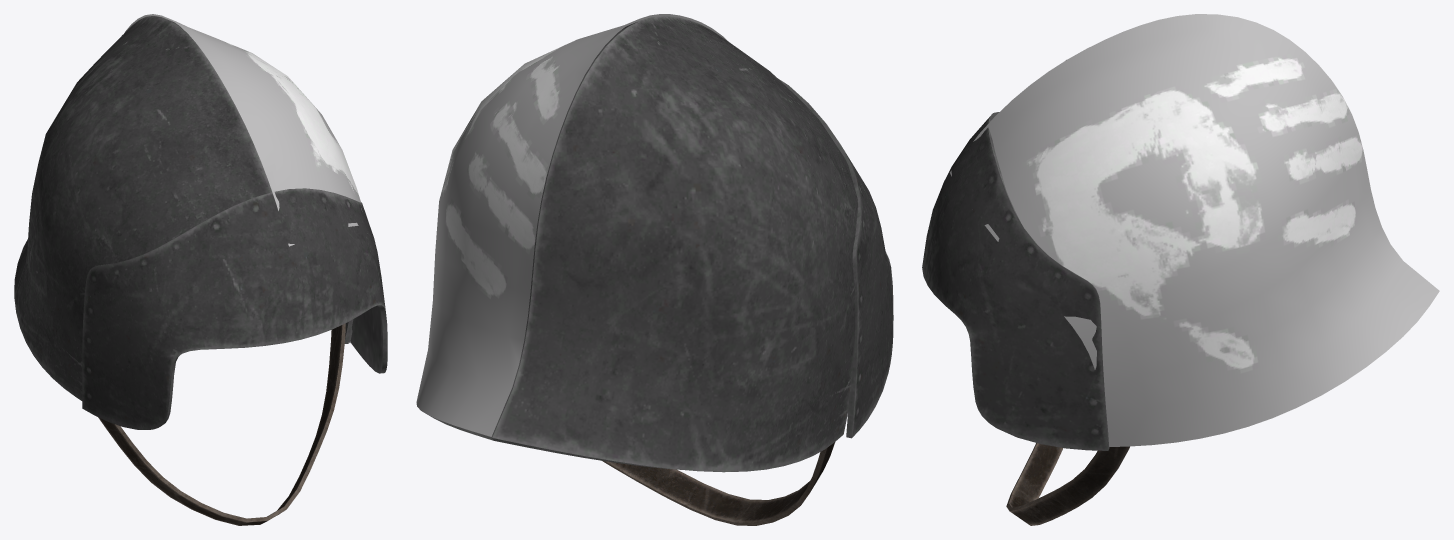
File: sk_uruk_hai_helmet_skir_a1.fbx
The picture shows the model from 3 angles, left to right: view 1: azimuth 30°, elevation 25°; view 2: azimuth 150°, elevation 25°; view 3: azimuth 270°, elevation 25°; orthographic projection. The views are drawn at different scales.
Visible parts, largest first — view 1: sk_uruk_hai_helmet_skir_a1.2, sk_uruk_hai_helmet_skir_a1.0, sk_uruk_hai_helmet_skir_a1.1; view 2: sk_uruk_hai_helmet_skir_a1.2, sk_uruk_hai_helmet_skir_a1.0, sk_uruk_hai_helmet_skir_a1.1; view 3: sk_uruk_hai_helmet_skir_a1.0, sk_uruk_hai_helmet_skir_a1.2, sk_uruk_hai_helmet_skir_a1.1.
Boxes of the visible parts, x1,y1,x2,y2 form: sk_uruk_hai_helmet_skir_a1.2: (14,16,387,429); sk_uruk_hai_helmet_skir_a1.0: (124,14,360,342); sk_uruk_hai_helmet_skir_a1.1: (98,323,345,525); sk_uruk_hai_helmet_skir_a1.2: (430,16,893,472); sk_uruk_hai_helmet_skir_a1.0: (416,14,728,436); sk_uruk_hai_helmet_skir_a1.1: (602,442,835,525); sk_uruk_hai_helmet_skir_a1.0: (949,14,1439,446); sk_uruk_hai_helmet_skir_a1.2: (922,112,1109,450); sk_uruk_hai_helmet_skir_a1.1: (1006,443,1129,525).
Size of the model in its own units: 0.2083 by 0.2926 by 0.3137.
Materials: 3 (3 with a texture image).
